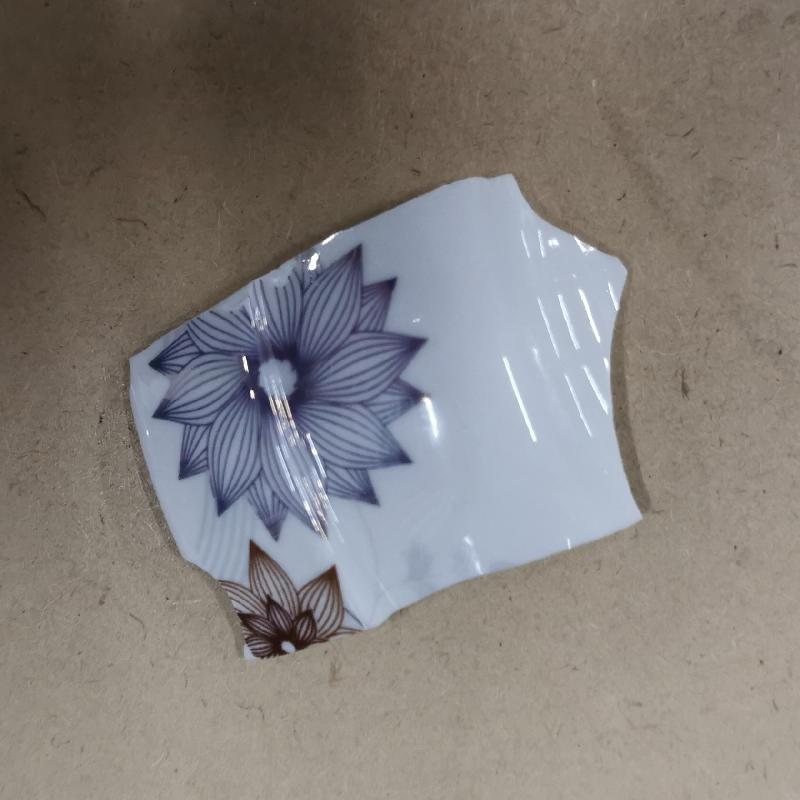ceram: (121, 168, 657, 660)
